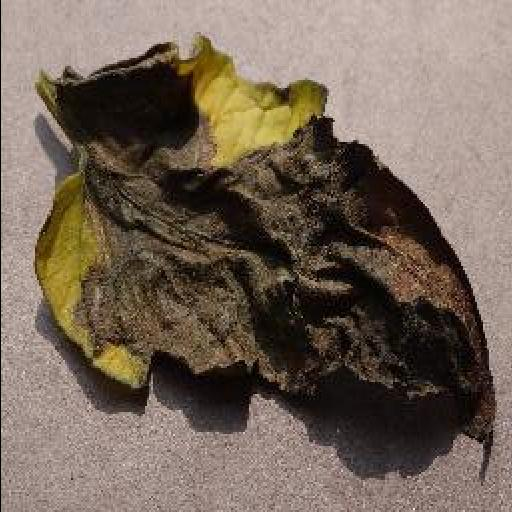disease_tomato: (30, 30, 500, 450)
